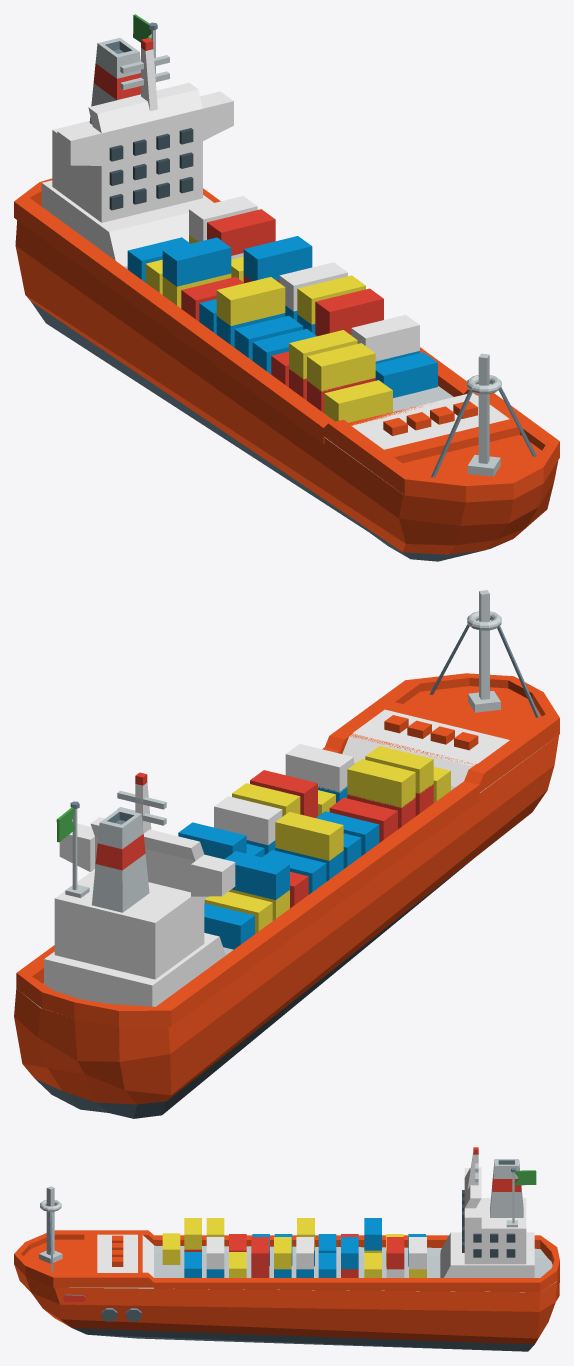
Rendered from container_ship.glb.
The picture shows the model from 3 angles, top to bottom: view 1: azimuth 30°, elevation 25°; view 2: azimuth 150°, elevation 25°; view 3: azimuth 270°, elevation 25°; orthographic projection. The views are drawn at different scales.
Visible parts, largest first — view 1: group582159379; view 2: group582159379; view 3: group582159379.
Part boxes in pixels (<box>): group582159379: <box>14,14,559,561</box>; group582159379: <box>14,590,559,1118</box>; group582159379: <box>14,1147,559,1351</box>.
Size of the model in its own units: 0.21 by 0.3814 by 0.975.
Materials: 1 (1 with a texture image).
